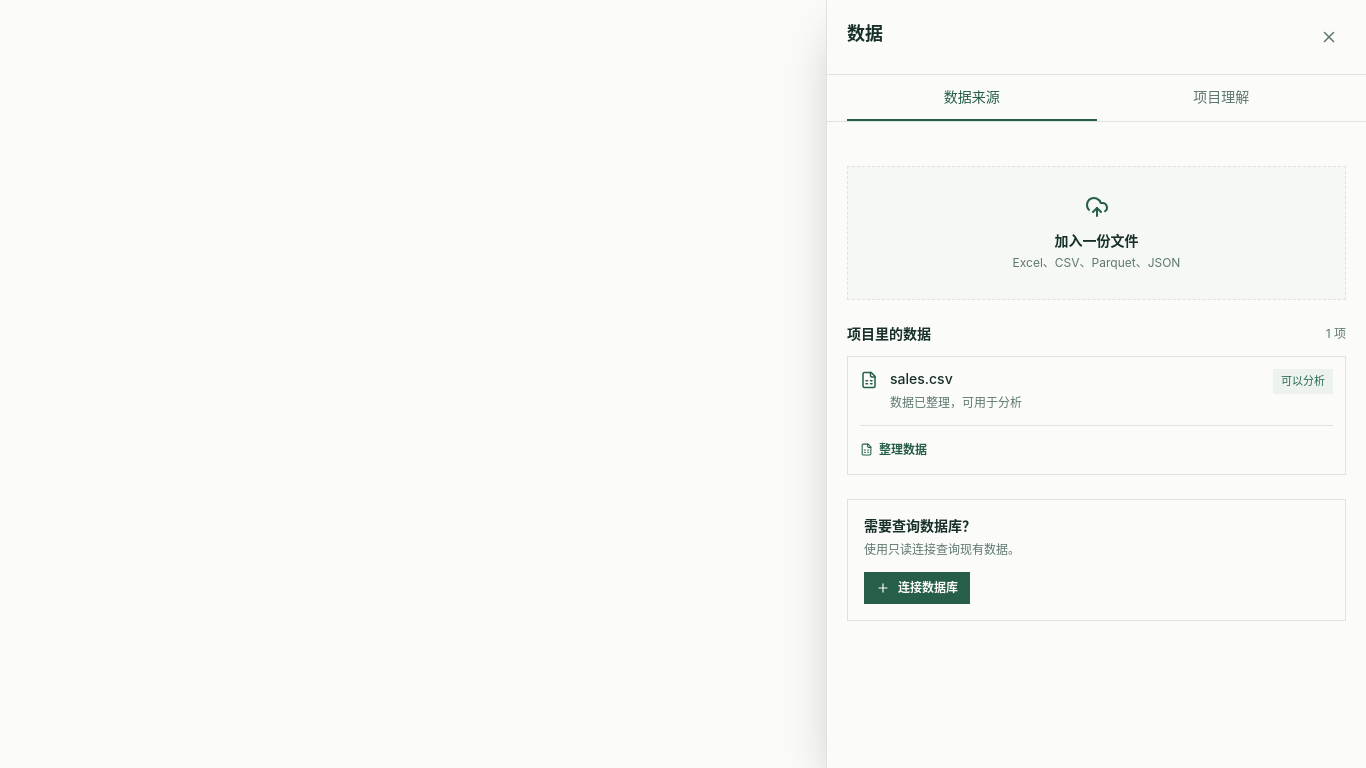
Scenario: DataWorkspacePanel project understanding › keeps an unsupported saved fill rule from being silently replaced
The width and height of the screenshot is (1366, 768).
Click the button "整理数据".
click(894, 450)  # box [860,442,927,458]
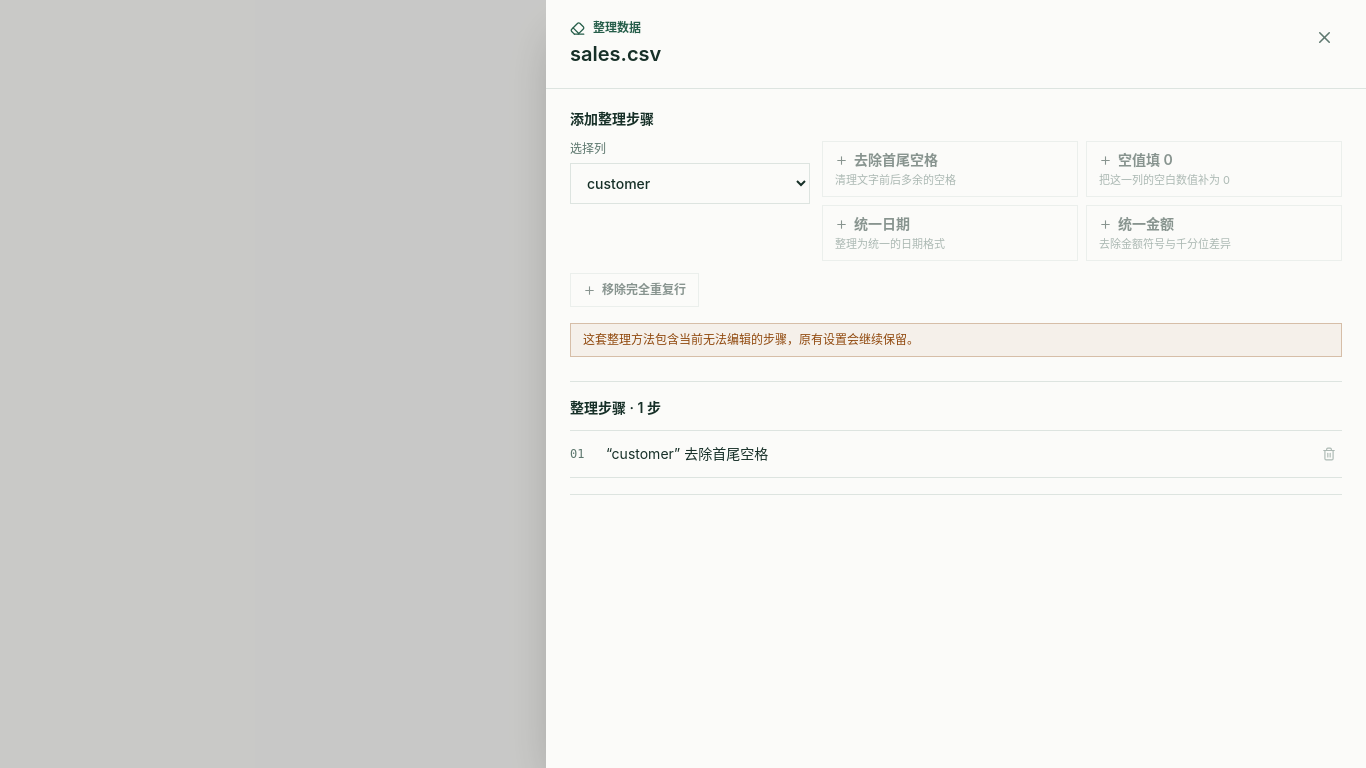
Check: the text "这套整理方法包含当前无法编辑的步骤，原有设置会继续保留。" is shown, box [570,323,1342,357]
Check: the button "空值填 0 把这一列的空白数值补为 0" is disabled, box [1086,141,1342,197]
